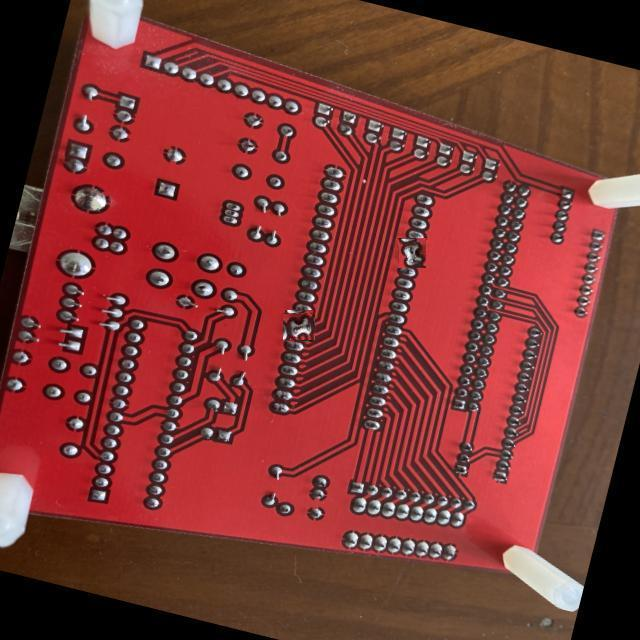damged: (284, 312, 314, 342), (398, 238, 426, 268)
